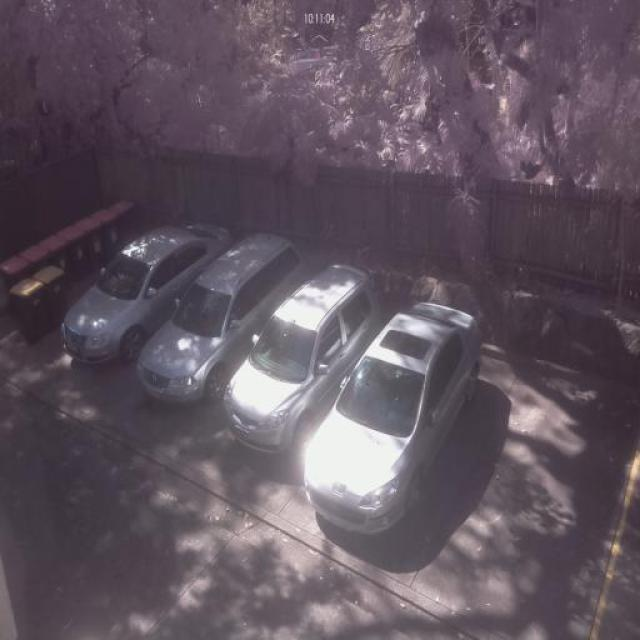Legalparking: (29, 183, 634, 603)
